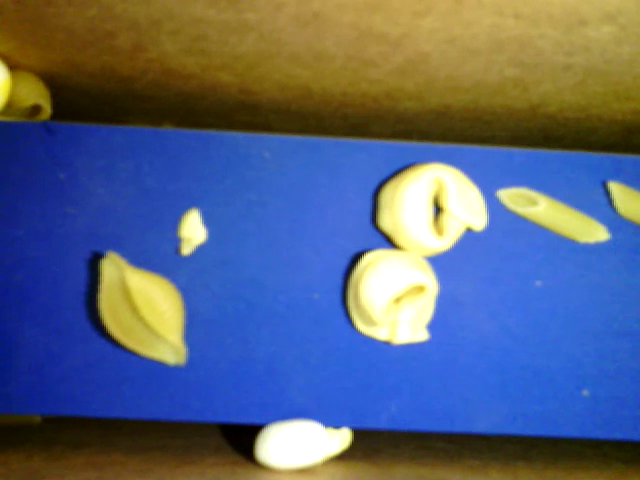penne: (496, 185, 614, 249), (610, 177, 639, 225)
shell: (94, 250, 192, 366), (3, 66, 55, 129)
tortellini: (372, 159, 489, 255), (345, 247, 438, 346)
